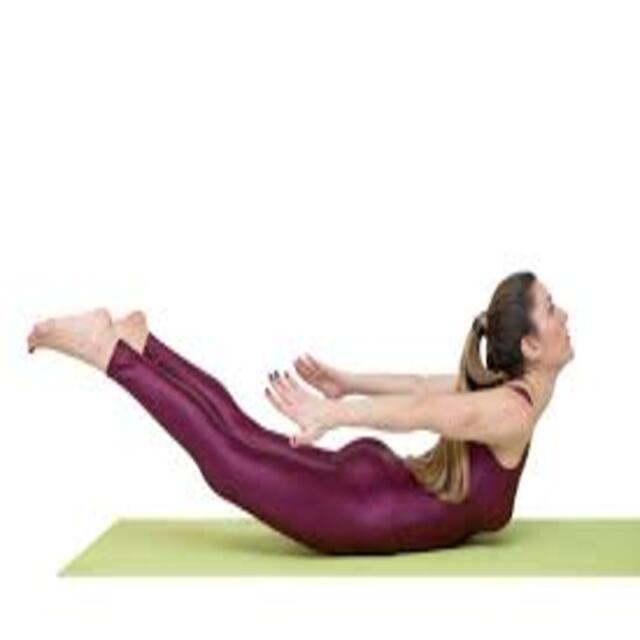Locust_Pose: (25, 266, 582, 558)
